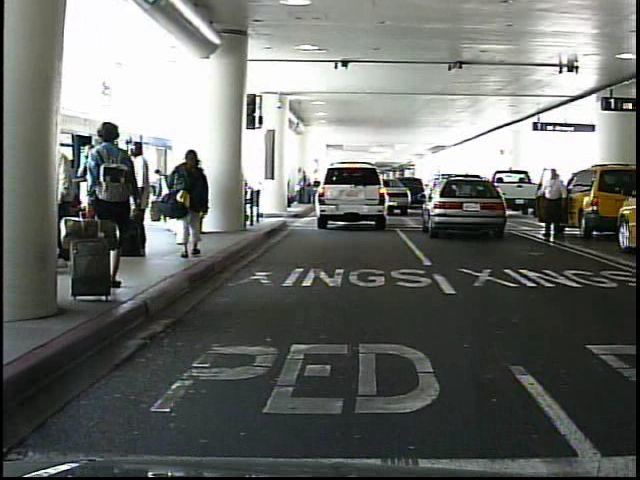person: (83, 114, 138, 301), (171, 145, 215, 267), (120, 138, 156, 257), (539, 167, 568, 241), (178, 155, 203, 233)
